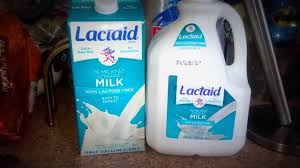milk: (147, 4, 250, 158)
